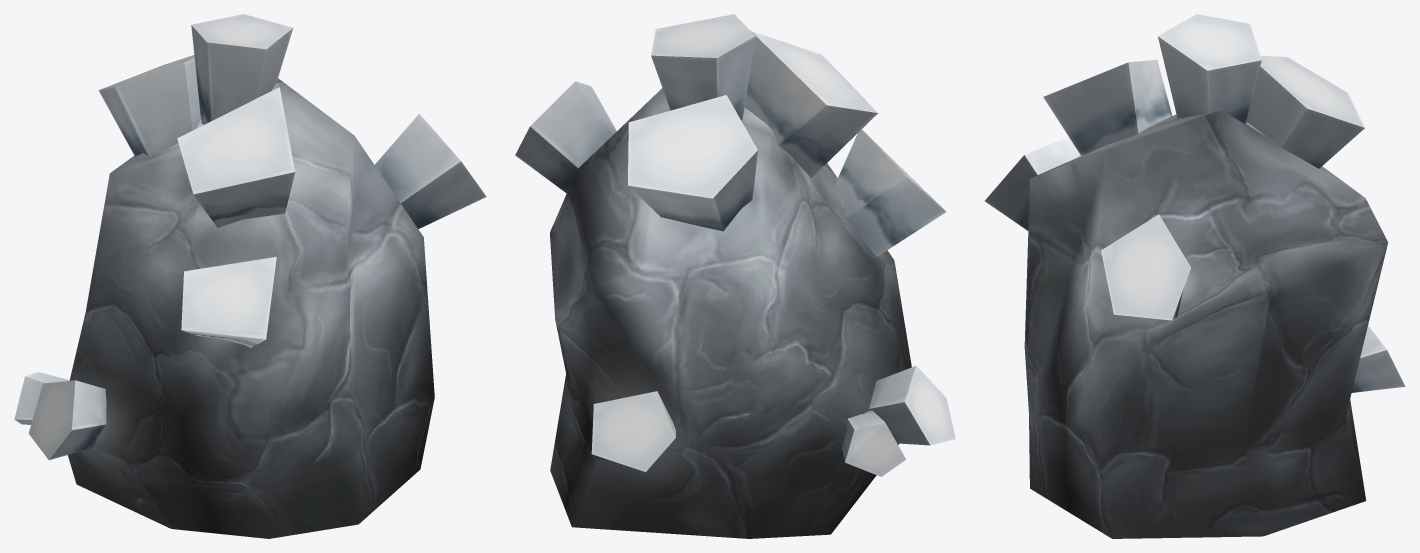
Rendered from ore_big_silver.fbx.
3 views of the same model, side by side, from view 1: azimuth 30°, elevation 25°; view 2: azimuth 150°, elevation 25°; view 3: azimuth 270°, elevation 25° (orthographic). The views are drawn at different scales.
Visible parts, largest first — view 1: ore_big_silver:Mesh; view 2: ore_big_silver:Mesh; view 3: ore_big_silver:Mesh.
Boxes of the visible parts, left/top/right/bottom form: ore_big_silver:Mesh: left=14, top=14, right=486, bottom=538; ore_big_silver:Mesh: left=515, top=14, right=955, bottom=538; ore_big_silver:Mesh: left=985, top=14, right=1405, bottom=538.
Size of the model in its own units: 4.94 by 4.9 by 4.24.
